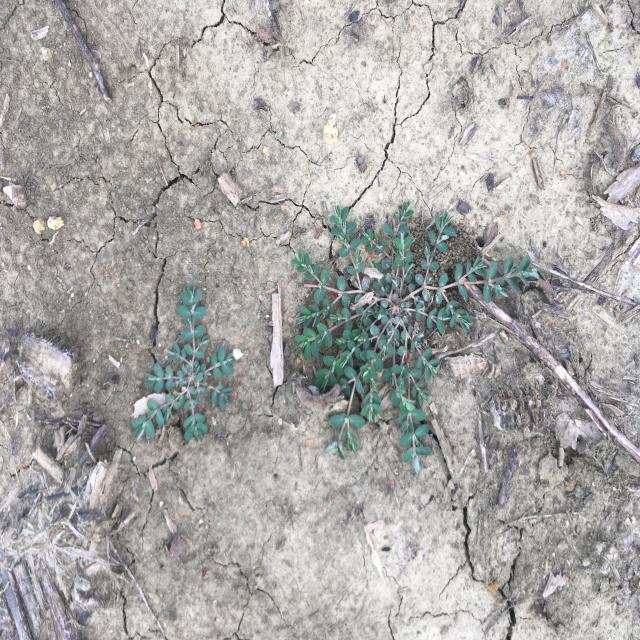SpottedSpurge: (290, 198, 540, 473), (131, 284, 238, 448)
